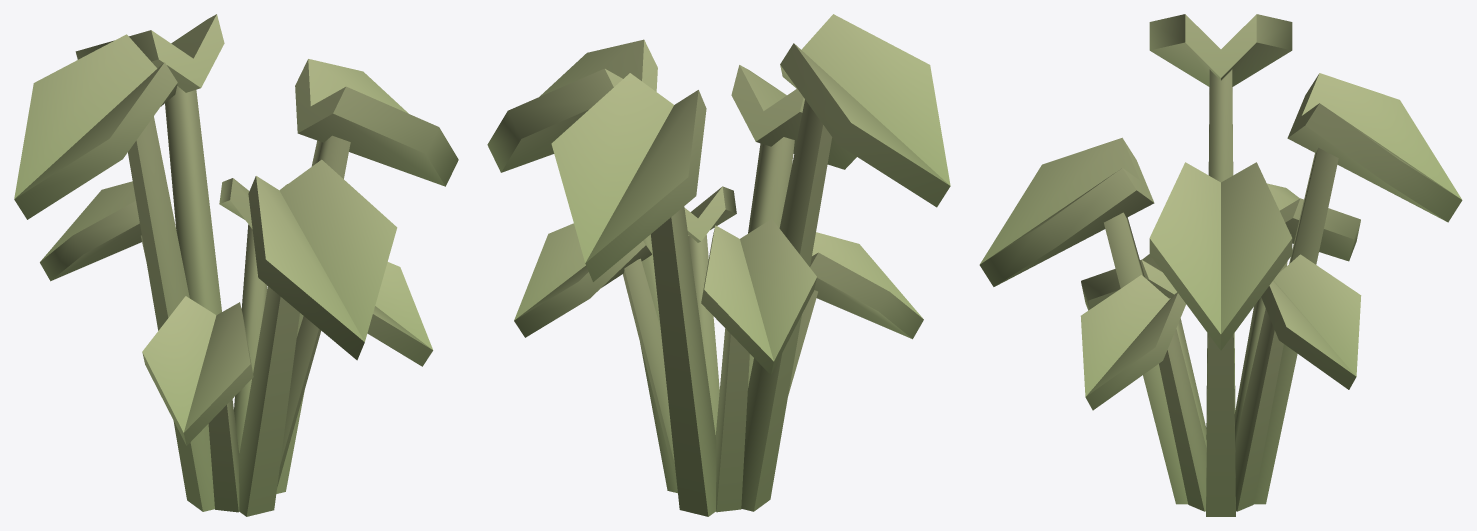
File: plant-separate-type-c.glb
The picture shows the model from 3 angles, left to right: view 1: azimuth 30°, elevation 25°; view 2: azimuth 150°, elevation 25°; view 3: azimuth 270°, elevation 25°; orthographic projection. The views are drawn at different scales.
Parts seen in each view (by area): view 1: plant-separate-type-c; view 2: plant-separate-type-c; view 3: plant-separate-type-c.
Part boxes in pixels (x1=…): plant-separate-type-c: x1=14, y1=14, x2=458, y2=516; plant-separate-type-c: x1=487, y1=14, x2=950, y2=516; plant-separate-type-c: x1=979, y1=14, x2=1462, y2=516.
Size of the model in its own units: 0.5884 by 0.5945 by 0.5884.
